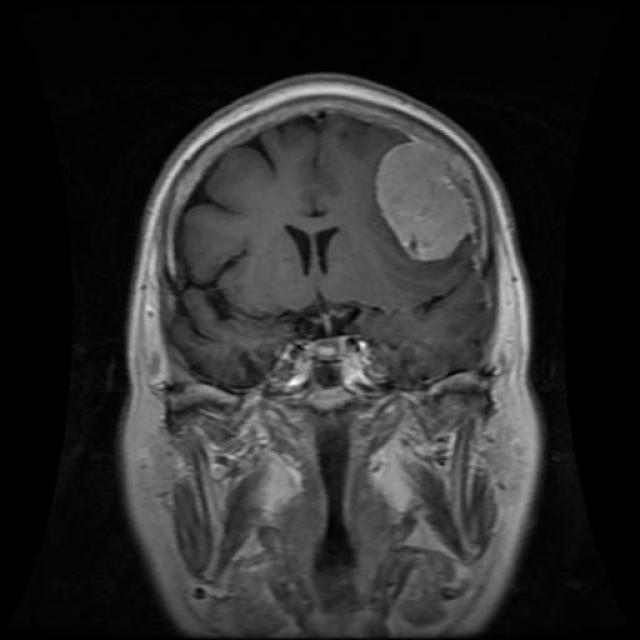meningioma: (376, 142, 479, 261)
